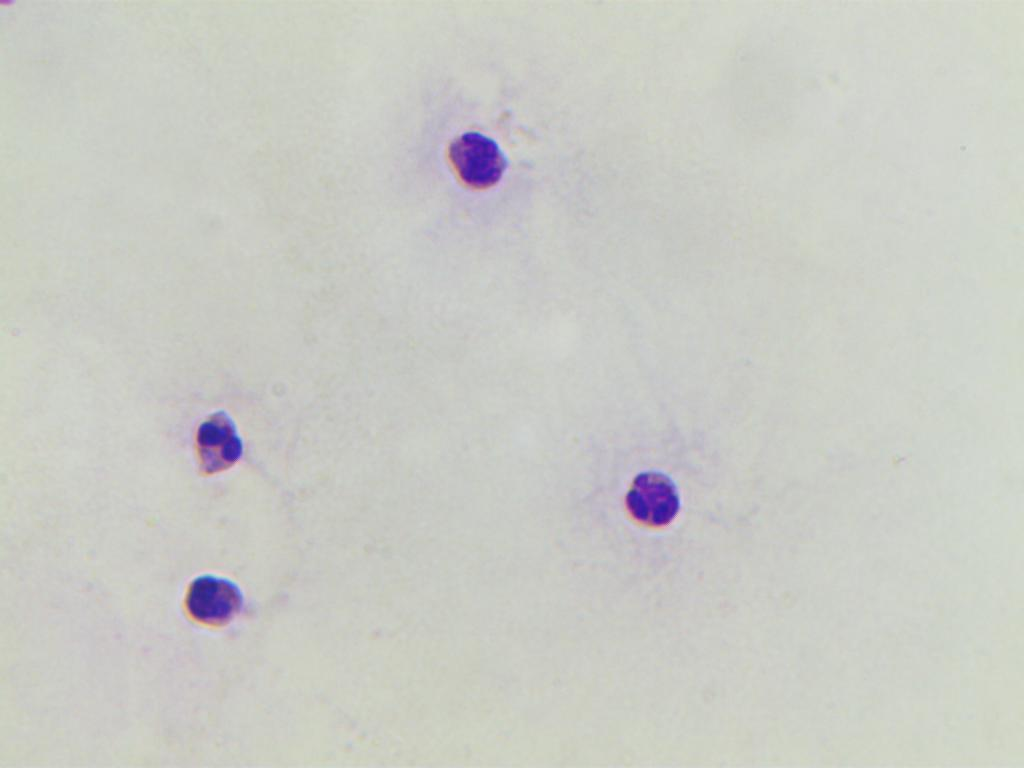neutrophil: (157, 390, 257, 519), (618, 424, 699, 546), (430, 103, 520, 203), (170, 562, 260, 662)
